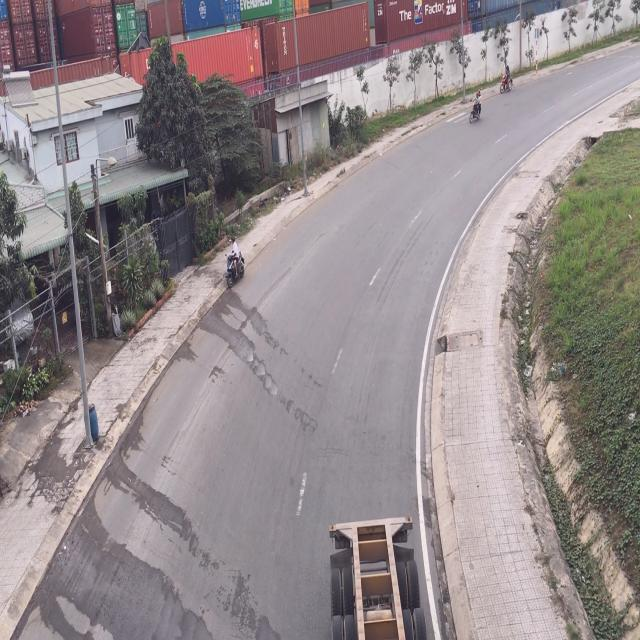motorbike: (227, 240, 248, 288), (498, 57, 513, 94), (467, 88, 481, 124)
truck: (325, 516, 429, 640)
